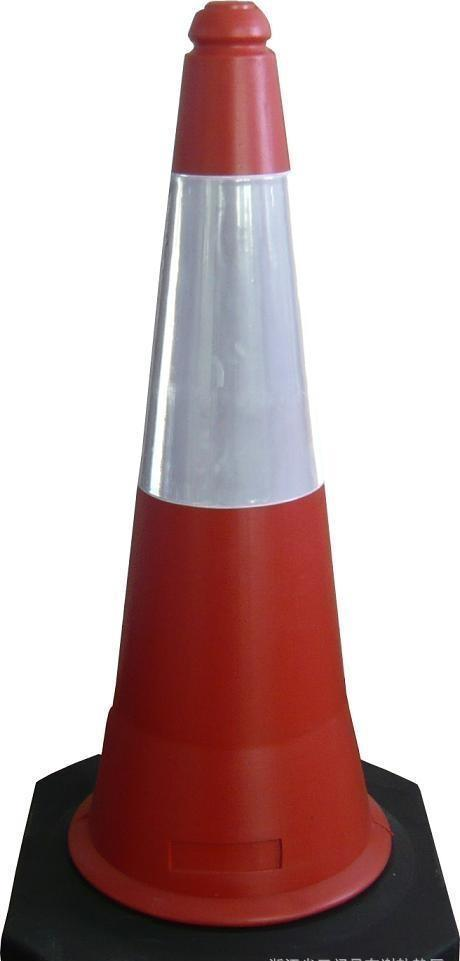cone_barrel: (70, 0, 394, 909)
